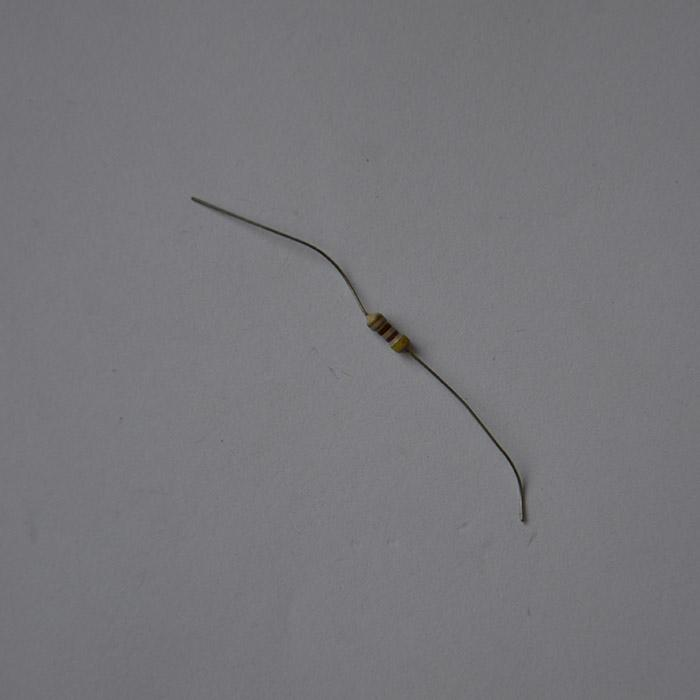resistor: (346, 363, 389, 411)
